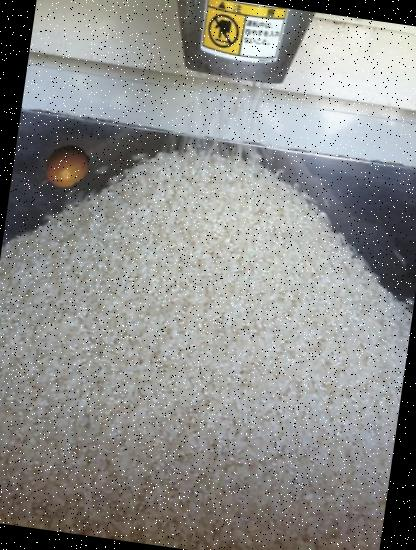Granadilla: (28, 134, 96, 202)
